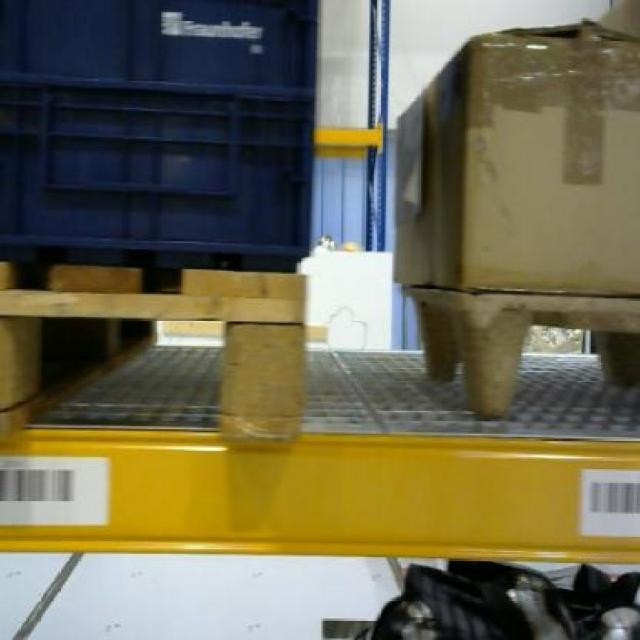box: (392, 16, 640, 295)
